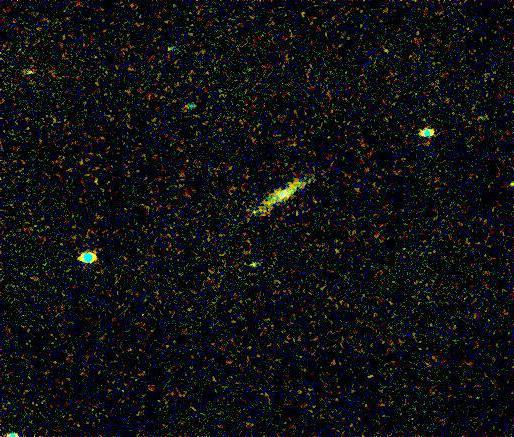star: (20, 57, 50, 87)
